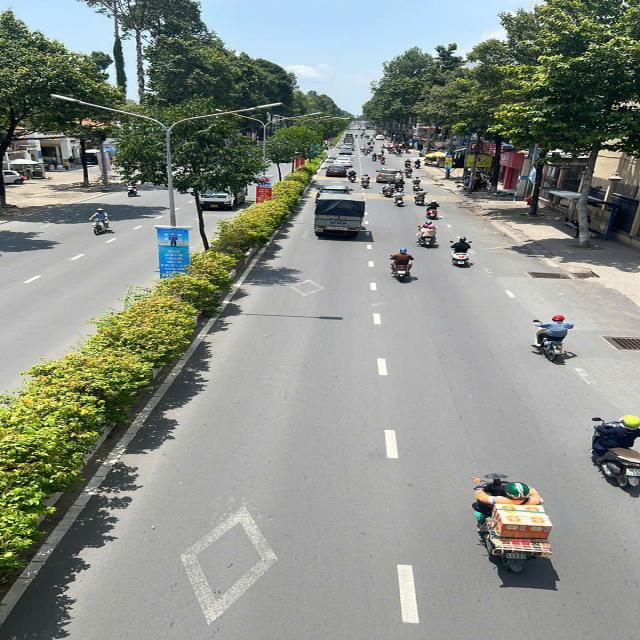Truck: (313, 194, 366, 241)
car: (320, 185, 351, 203), (328, 164, 347, 177), (334, 158, 354, 166), (337, 146, 353, 154), (343, 138, 355, 144), (376, 134, 386, 140), (383, 142, 393, 148)
motobyte: (476, 478, 546, 568), (595, 411, 640, 492), (538, 315, 572, 365), (390, 250, 414, 281), (452, 239, 470, 268), (421, 224, 438, 248), (426, 202, 438, 219), (413, 177, 423, 193), (394, 192, 404, 205), (383, 184, 393, 197), (416, 191, 424, 205), (361, 175, 370, 187), (396, 180, 404, 192), (405, 167, 413, 177), (414, 159, 422, 168), (349, 172, 356, 182), (406, 159, 412, 168), (380, 156, 385, 165), (363, 148, 368, 156), (372, 154, 376, 162), (377, 152, 382, 158), (360, 144, 365, 150)
